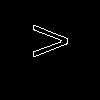V: (24, 24, 68, 57)
